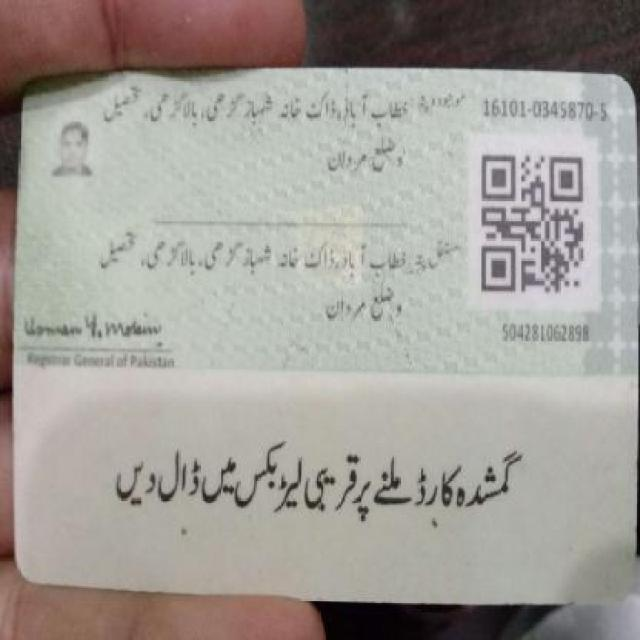Back: (15, 58, 637, 604)
